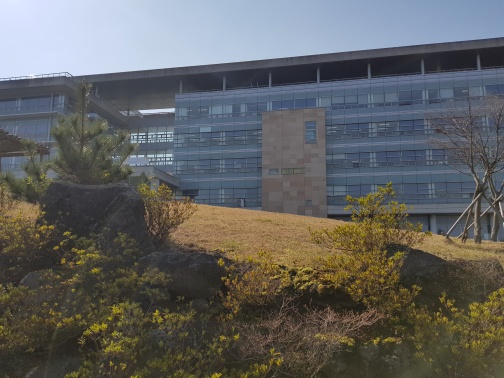Engineering College Building 4: (174, 47, 504, 215), (11, 66, 504, 178), (333, 61, 441, 220)
